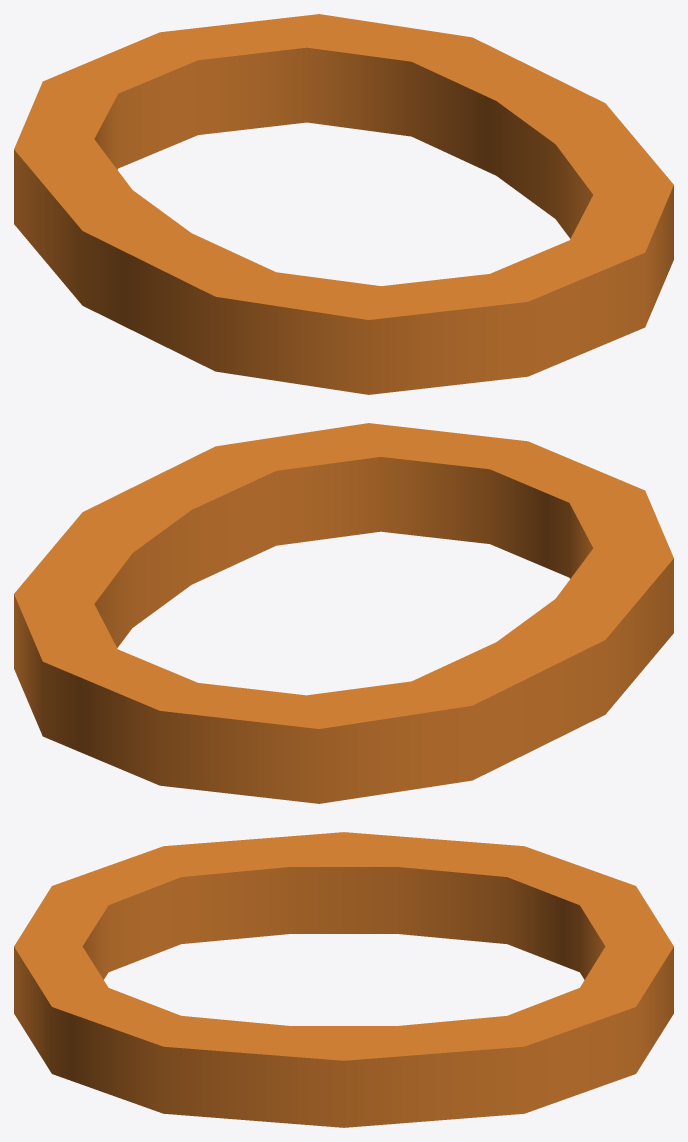
3 views of the same model, one above another, from view 1: azimuth 30°, elevation 25°; view 2: azimuth 150°, elevation 25°; view 3: azimuth 270°, elevation 25° (orthographic). The views are drawn at different scales.
Parts seen in each view (by area): view 1: O; view 2: O; view 3: O.
Boxes of the visible parts, box(x1,y1,x2,y2) form: O: box(14, 14, 673, 394); O: box(14, 423, 673, 803); O: box(14, 832, 673, 1127).
Size of the model in its own units: 0.1836 by 0.0251 by 0.2239.
